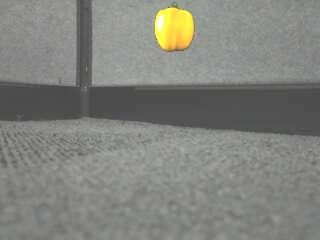Capsicum: (154, 1, 194, 52)
